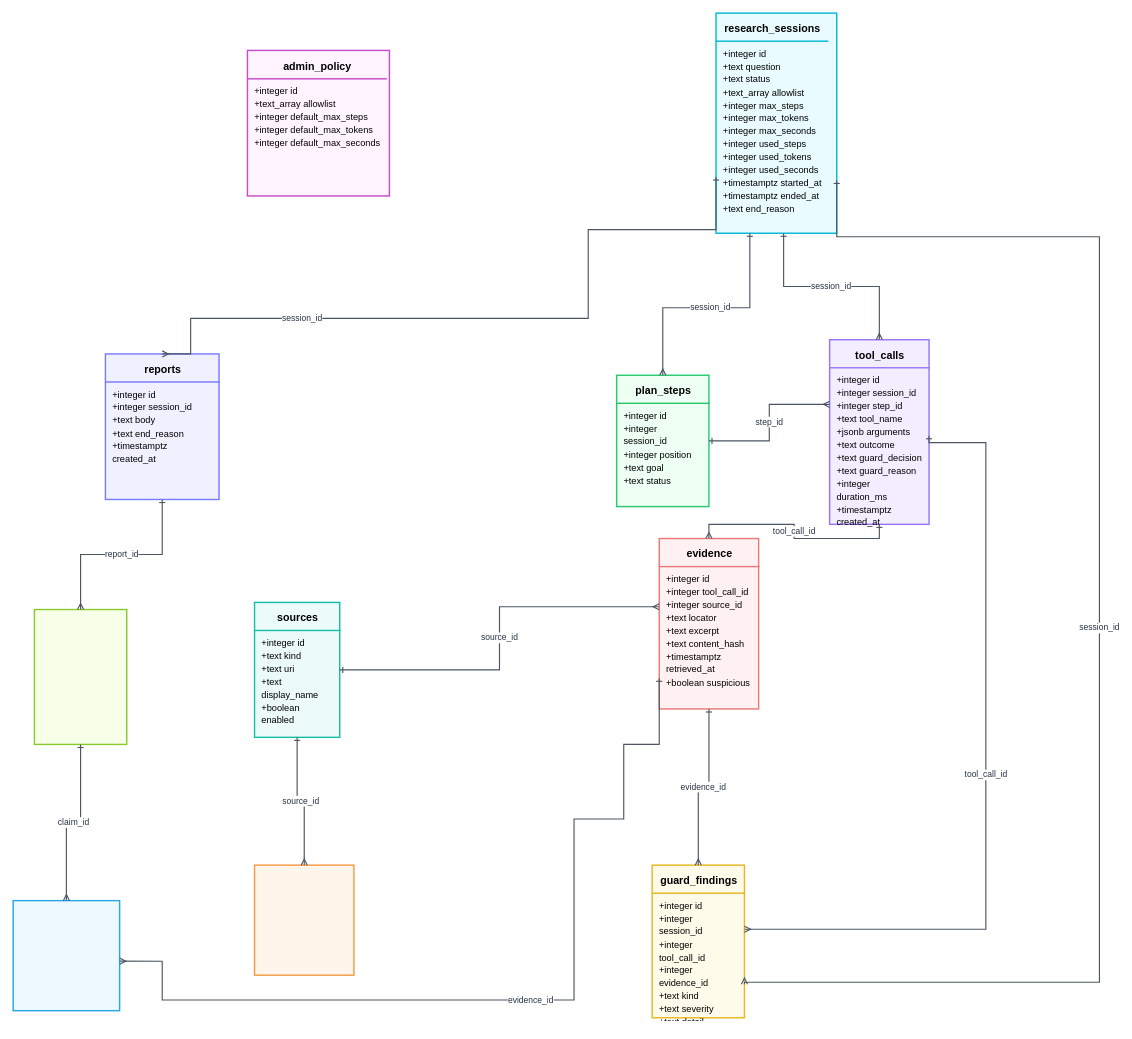
The diagram is 1132 pixels wide and 1039 high, and some of its shapes have lost their labels. Here are the shapes that lost their labels. From the top down, the centre of each, then its label:
At point 80,676: "claims +integer id +integer report_id +integer position +text text +text status".
At point 303,920: "document_chunks +integer id +integer source_id +integer position +text text".
At point 66,955: "citations +integer claim_id +integer evidence_id +text matched_excerpt".
